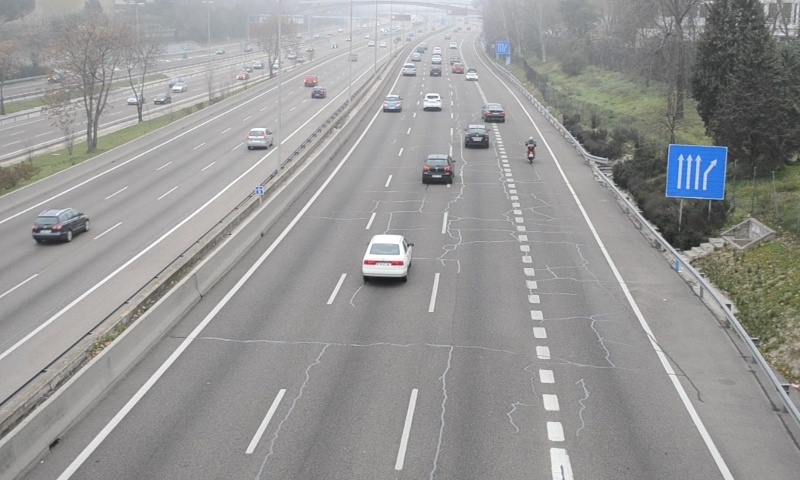car: (362, 235, 414, 278), (422, 154, 452, 184), (463, 124, 489, 147), (482, 102, 506, 123), (422, 92, 443, 110), (382, 94, 402, 112), (402, 62, 417, 78)
motorcycle: (525, 136, 538, 166)
